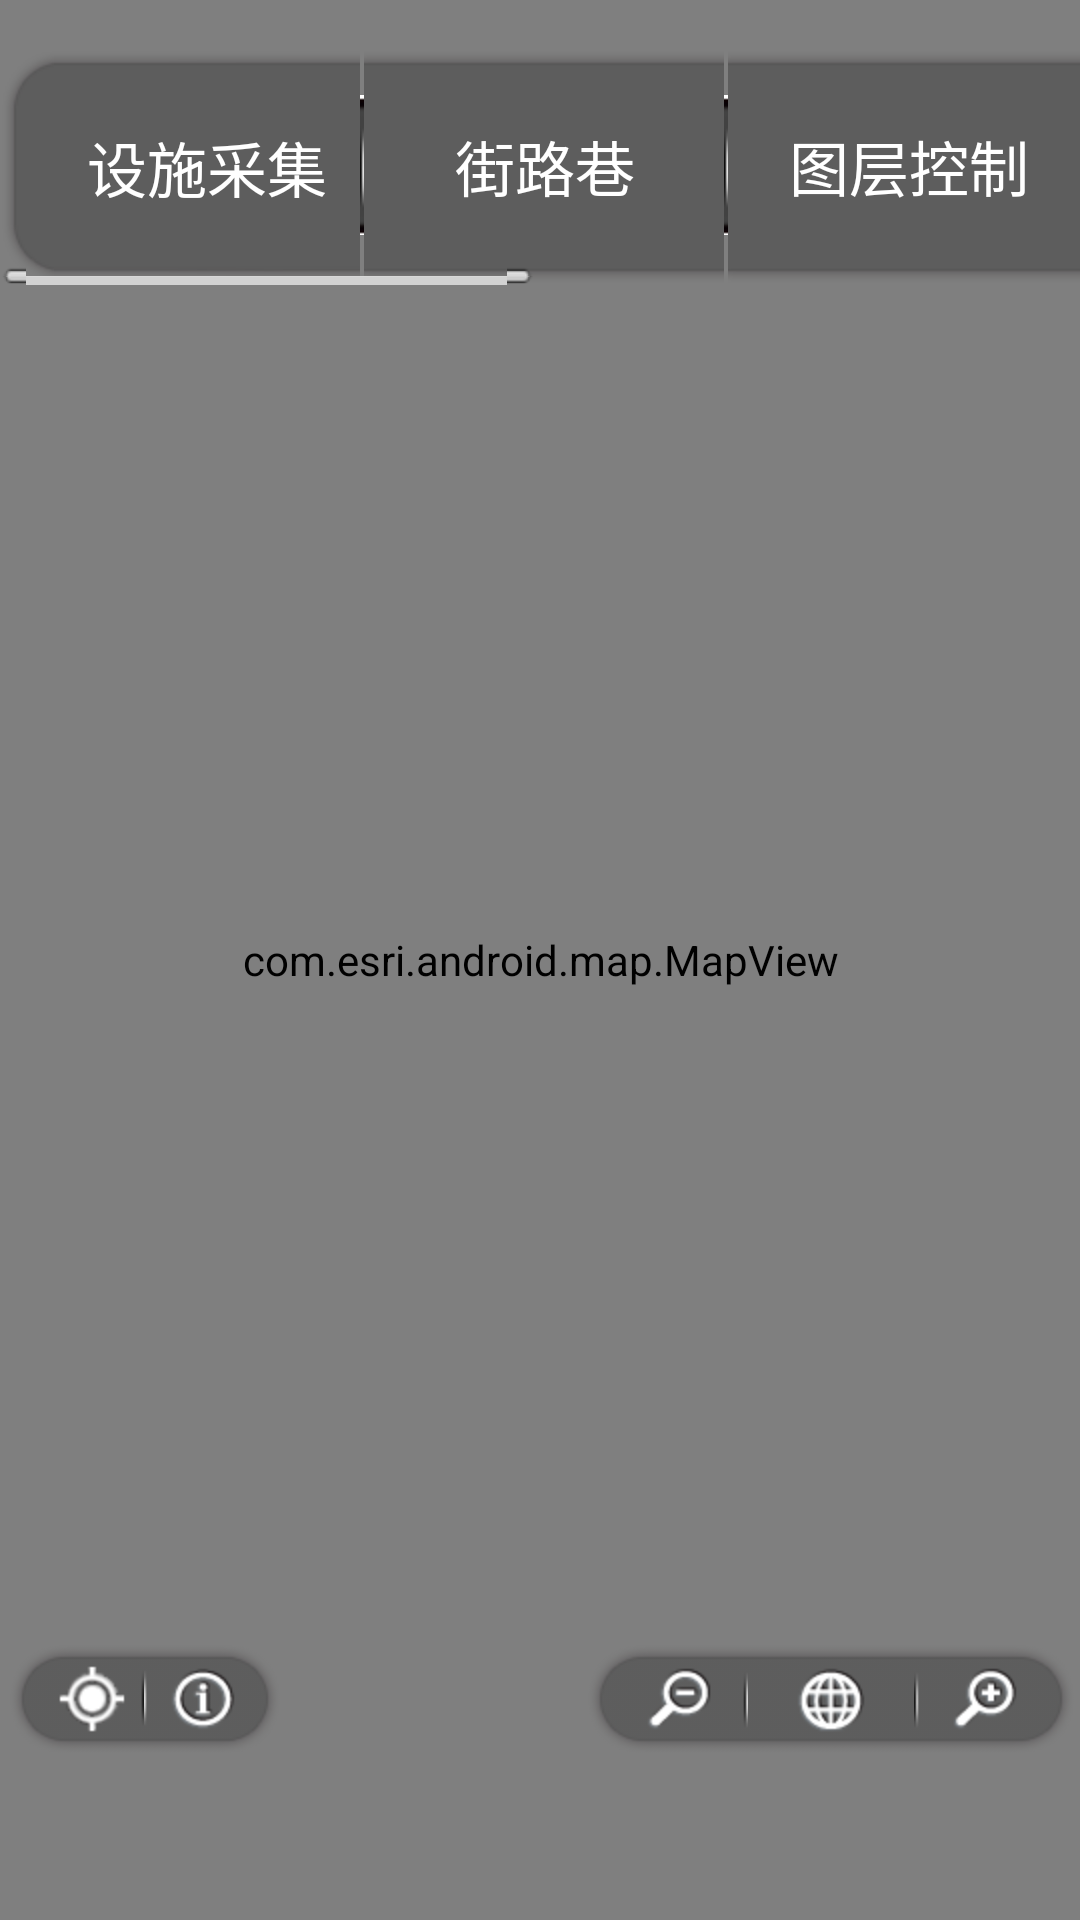

Named icons in this screenshot (1080px×1920px) and their bounding boxes, [x1,y1,x2,y2]:
gis location: [21,1656,144,1742]
gis zoomfull: [748,1656,914,1742]
gis zoomin: [914,1656,1063,1742]
gis zoomout: [599,1656,748,1742]
help: [144,1656,269,1742]
